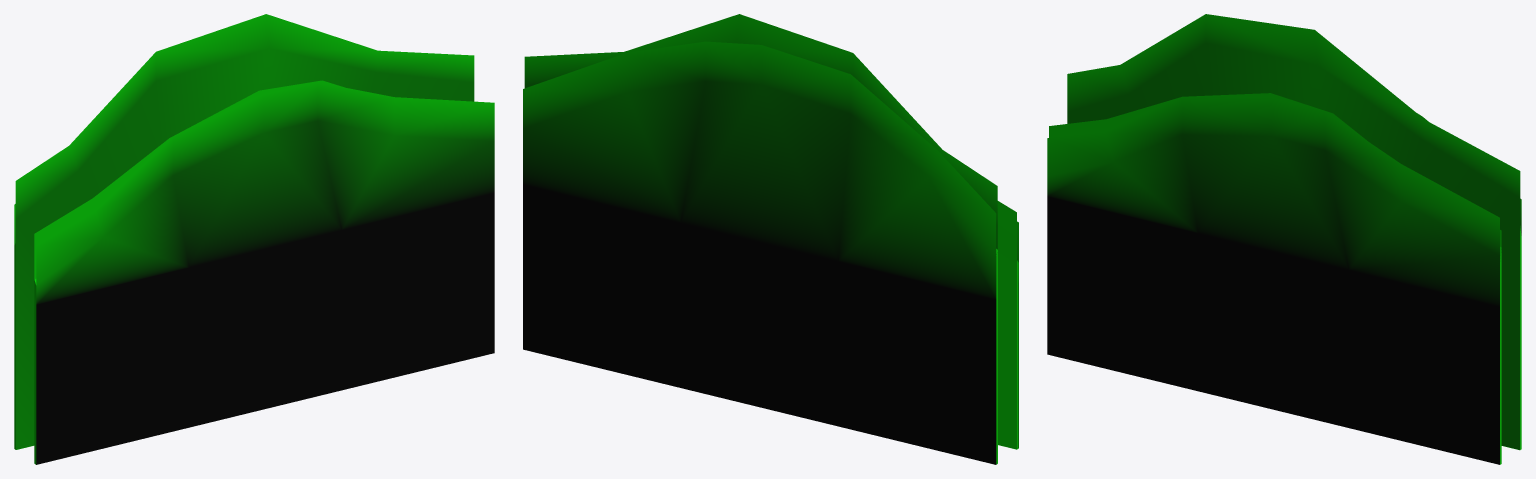
File: DBK_Plywood_Tile_B.fbx
3 views of the same model, side by side, from view 1: azimuth 30°, elevation 25°; view 2: azimuth 150°, elevation 25°; view 3: azimuth 330°, elevation 25° (orthographic). The views are drawn at different scales.
Visible parts, largest first — view 1: DBK_Plywood_Tile_B; view 2: DBK_Plywood_Tile_B; view 3: DBK_Plywood_Tile_B.
Part boxes in pixels (bbox=[...]): DBK_Plywood_Tile_B: bbox=[14, 14, 494, 464]; DBK_Plywood_Tile_B: bbox=[523, 14, 1018, 464]; DBK_Plywood_Tile_B: bbox=[1047, 14, 1521, 464].
Size of what is drawn, in the model's own units: 300 by 234 by 24.98.
